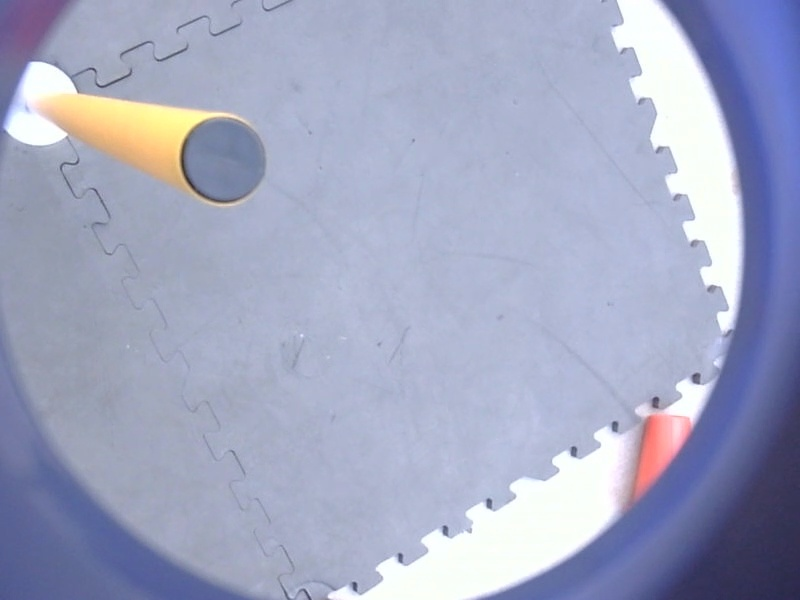tip: (174, 109, 272, 210)
